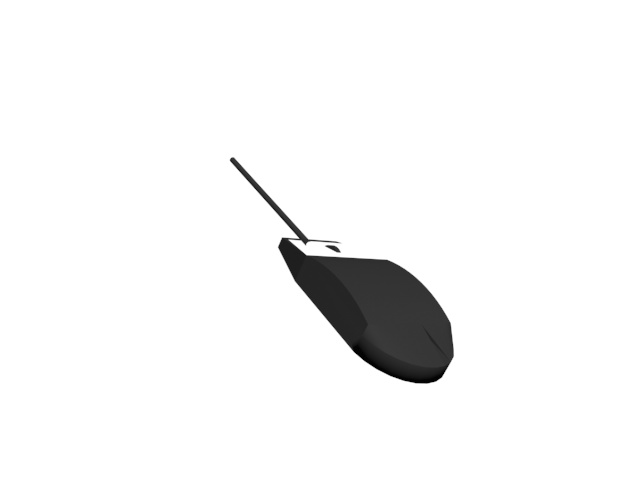mouse: (225, 153, 456, 384)
